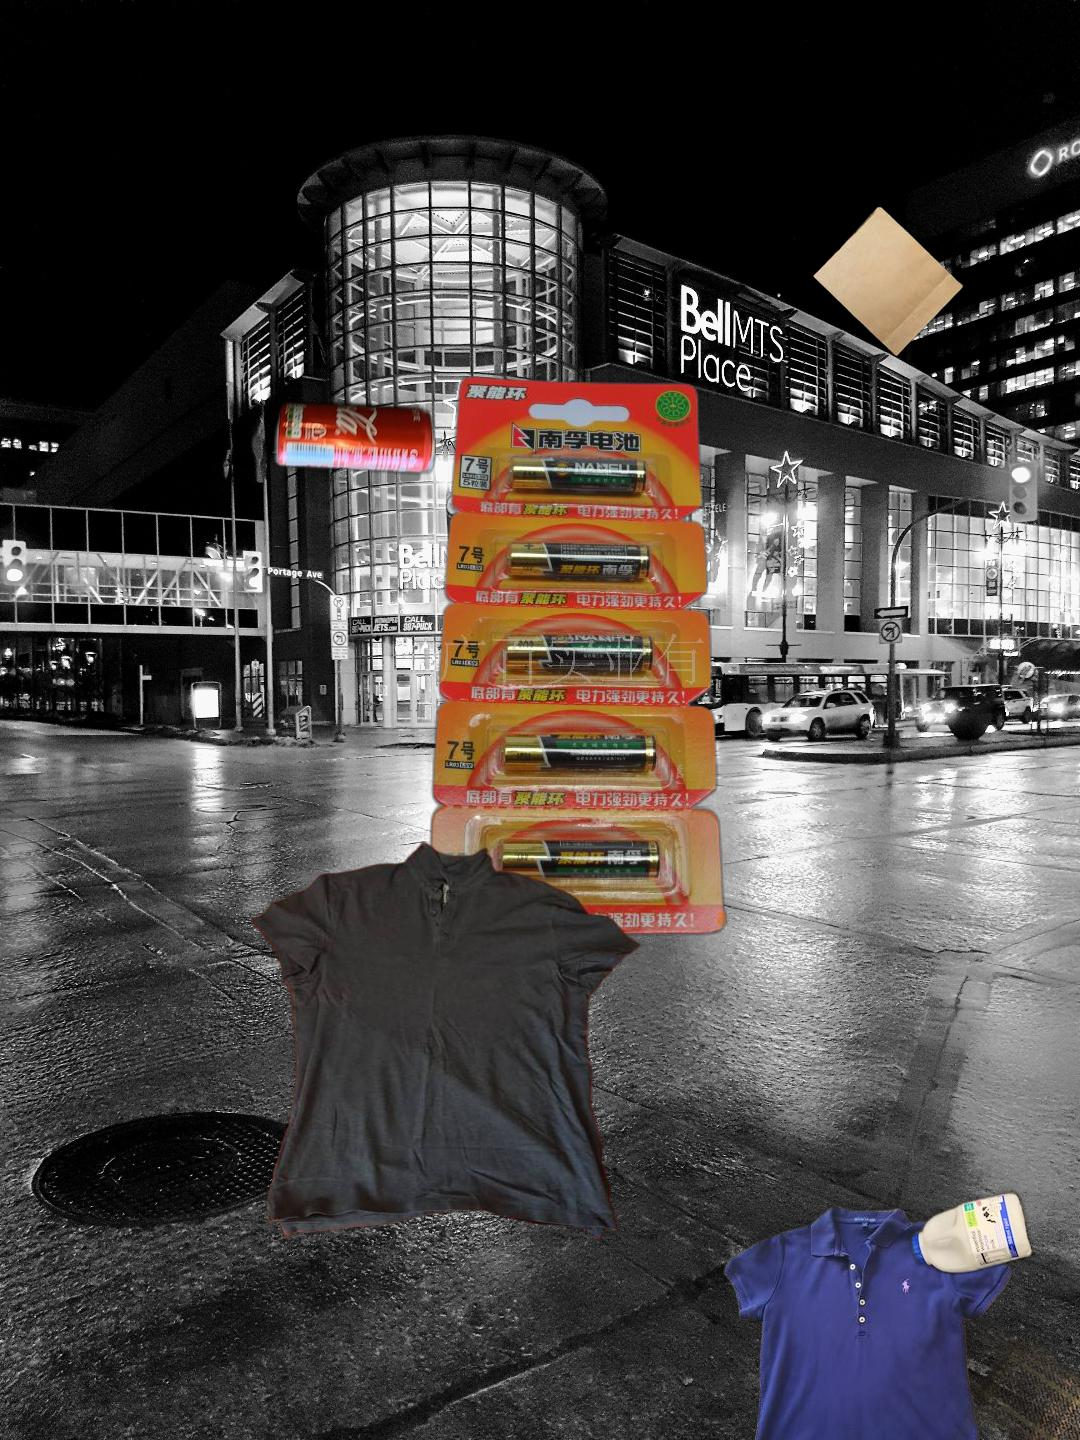battery: (420, 371, 733, 940)
clothes: (248, 841, 649, 1240), (720, 1202, 1016, 1440)
metal-cans: (269, 395, 439, 478)
paper-bag: (810, 204, 967, 359)
plastic-bottles: (815, 1003, 1080, 1440)
